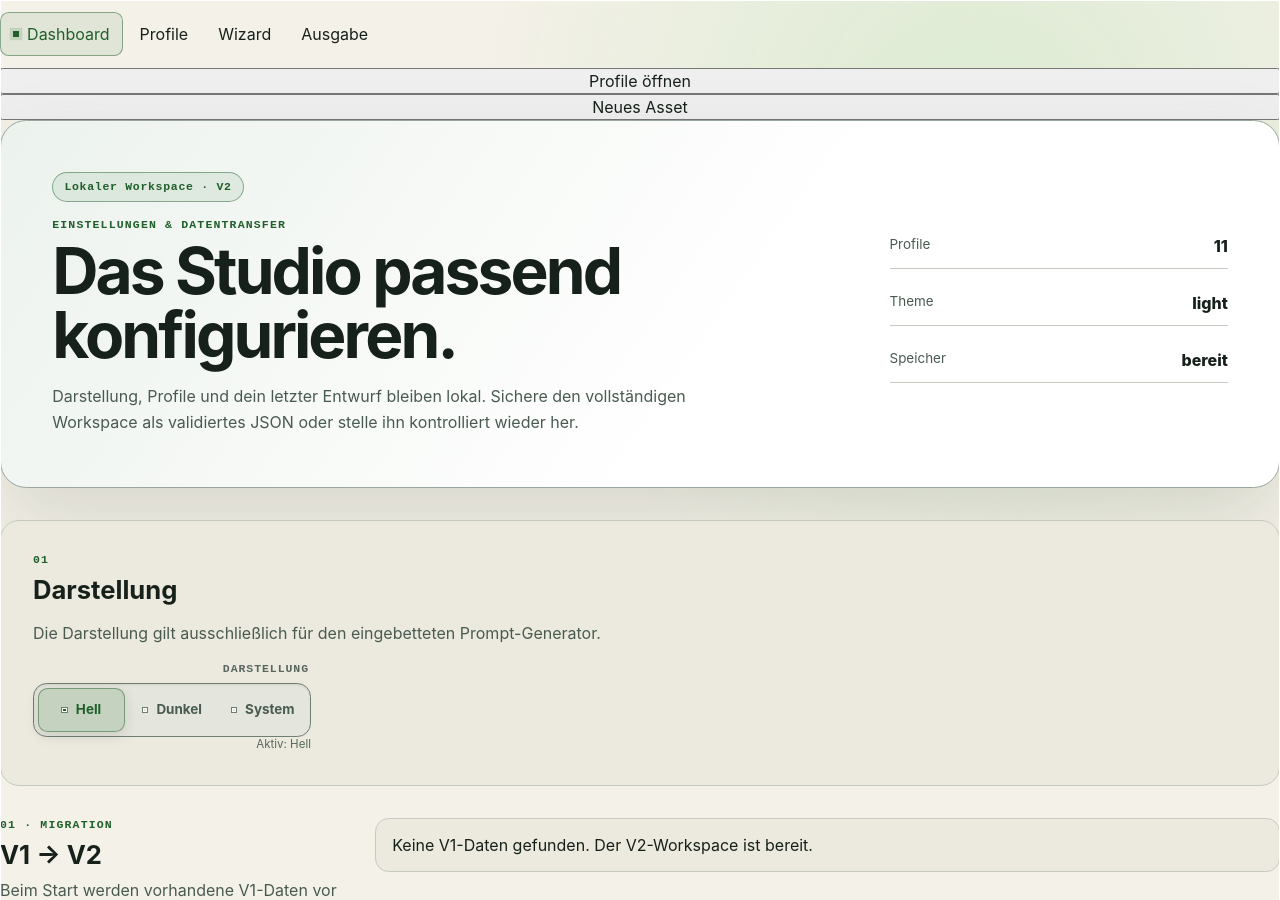
it: settings workspace transfer › persists the embedded prompt theme without changing the outer document
Click the radio button labelled "Dunkel". click: (179, 709)
box: 156,701 -> 202,717
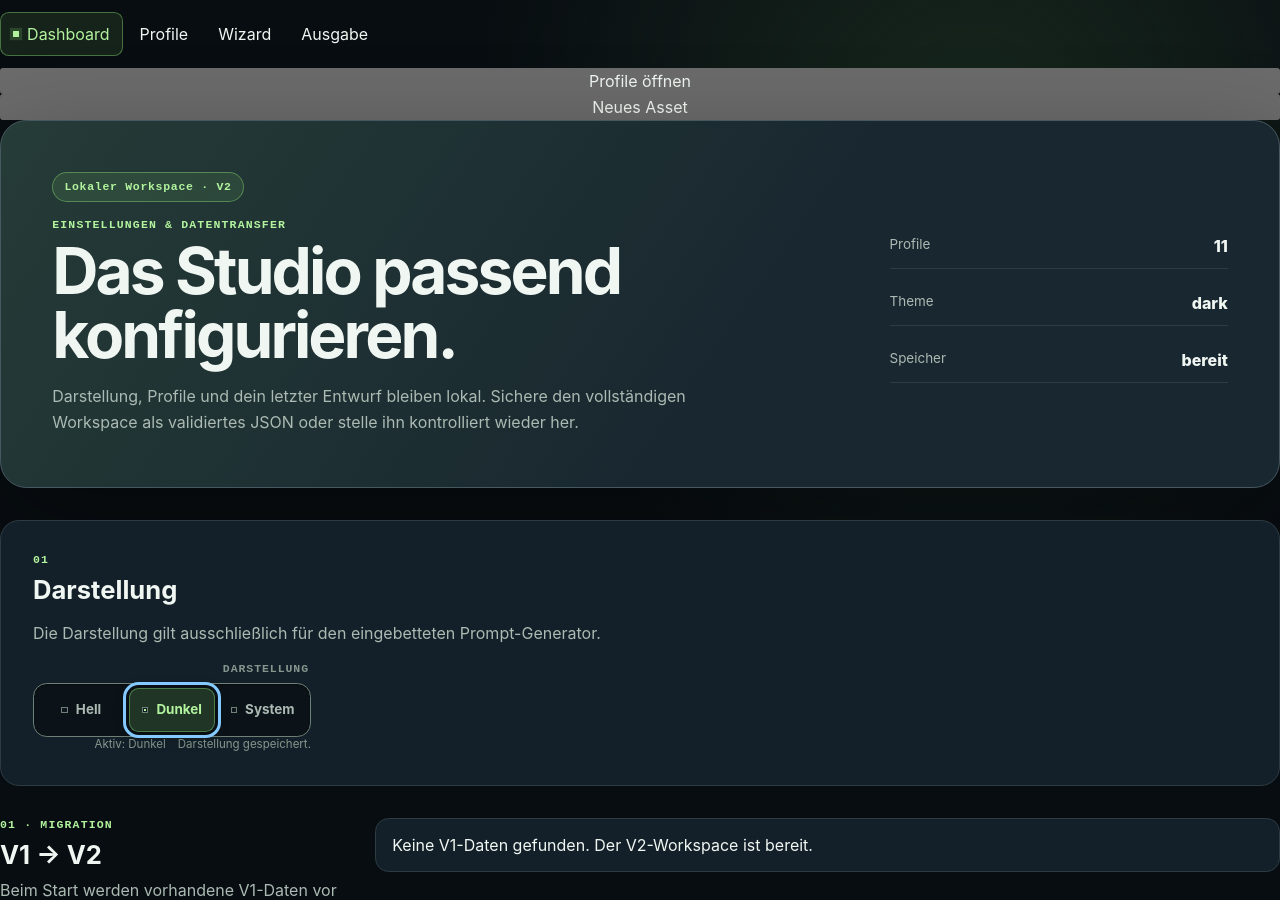
Expected: the radio button labelled "Dunkel" is checked, 129,688 -> 215,732
Expected: the text "Darstellung gespeichert." is shown, 178,737 -> 311,753
